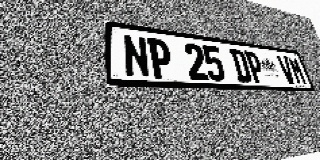2: (183, 42, 209, 81)
5: (202, 45, 227, 81)
D: (229, 49, 253, 83)
M: (287, 56, 308, 85)
N: (122, 34, 151, 78)
P: (147, 37, 174, 79), (244, 50, 267, 83)
V: (276, 55, 297, 84)
